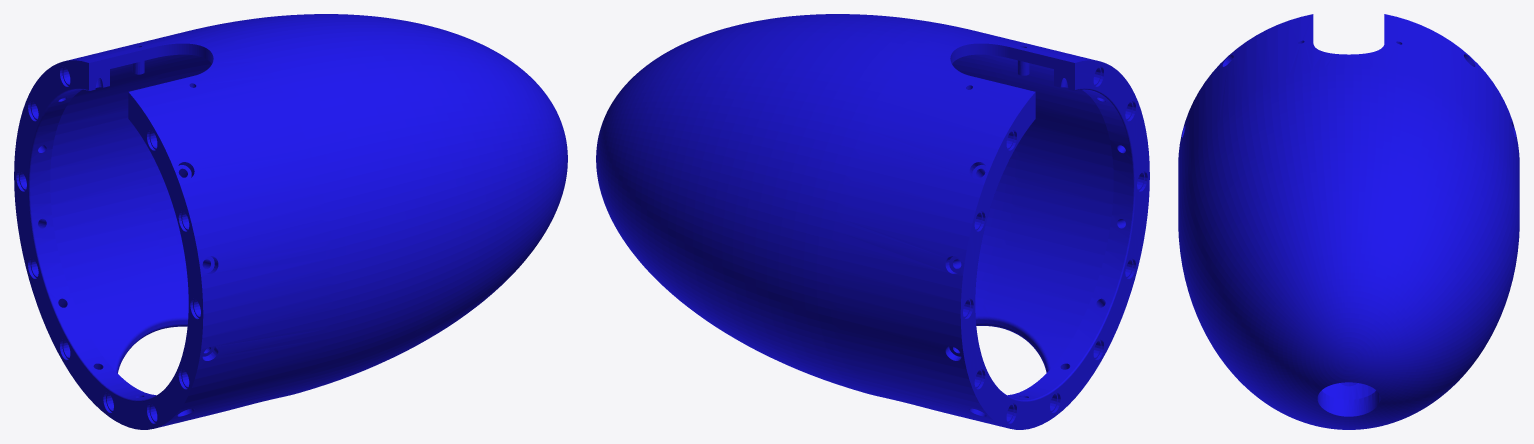
The model's file is nose.dae.
3 renders of one model, left to right at view 1: azimuth 30°, elevation 25°; view 2: azimuth 150°, elevation 25°; view 3: azimuth 270°, elevation 25°, orthographic. The views are drawn at different scales.
Parts seen in each view (by area): view 1: Nose; view 2: Nose; view 3: Nose.
Part boxes in pixels (<box>): Nose: <box>14,14,567,429</box>; Nose: <box>596,14,1149,429</box>; Nose: <box>1178,14,1519,429</box>.
Bounding box in the file's own units: 340 × 250 × 250.
